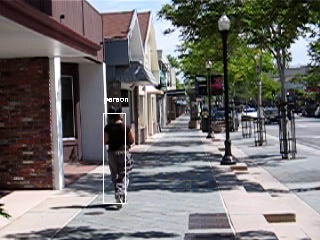person: (102, 107, 134, 211), (101, 107, 133, 211), (103, 107, 135, 211), (102, 106, 134, 210), (102, 108, 134, 212)
target_negative: (155, 64, 280, 131), (181, 58, 240, 147), (182, 103, 265, 143), (187, 179, 234, 231), (284, 126, 303, 177), (285, 126, 291, 219)
